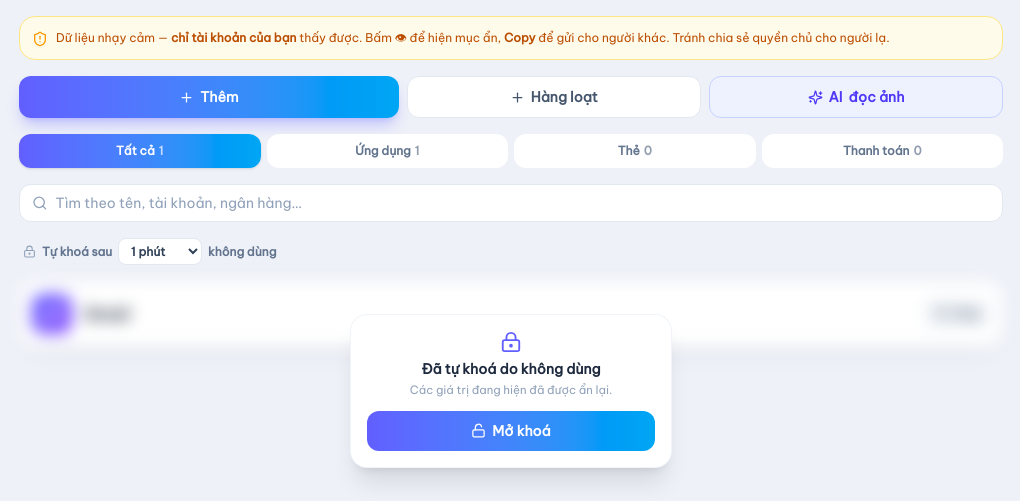
Tài khoản & Thẻ — tự khoá khi không dùng › chưa có PIN (chế độ máy): không dùng quá N phút → ẩn + làm mờ, bấm Mở khoá thì hiện lại
Expected: the dropdown labelled "Tự khoá sau" shows "1 phút", [118,238,202,265]
Expected: the text "Đã tự khoá do không dùng" is shown, [421,360,601,378]
Click the button "Mở khoá" at (511, 431), box [367,411,655,451]
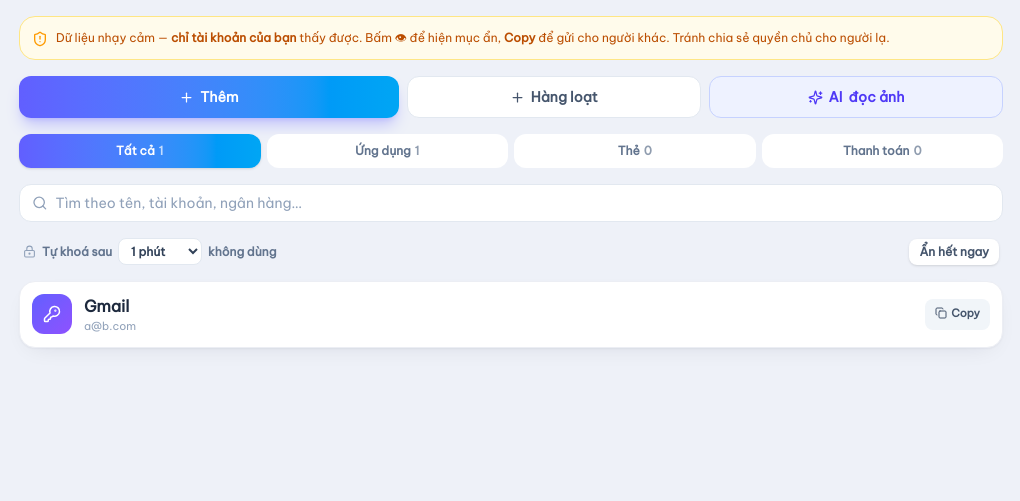
Expected: the text "Đã tự khoá do không dùng" is gone
